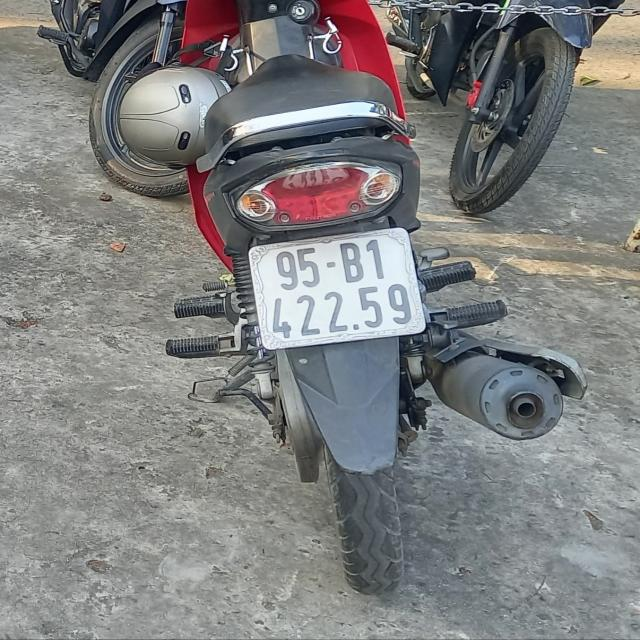1: (366, 238, 388, 278)
2: (324, 290, 349, 334), (298, 293, 321, 336)
4: (271, 298, 293, 339)
5: (297, 247, 323, 290), (358, 286, 384, 329)
9: (389, 282, 413, 326), (275, 251, 299, 290)
B: (339, 241, 365, 283)
